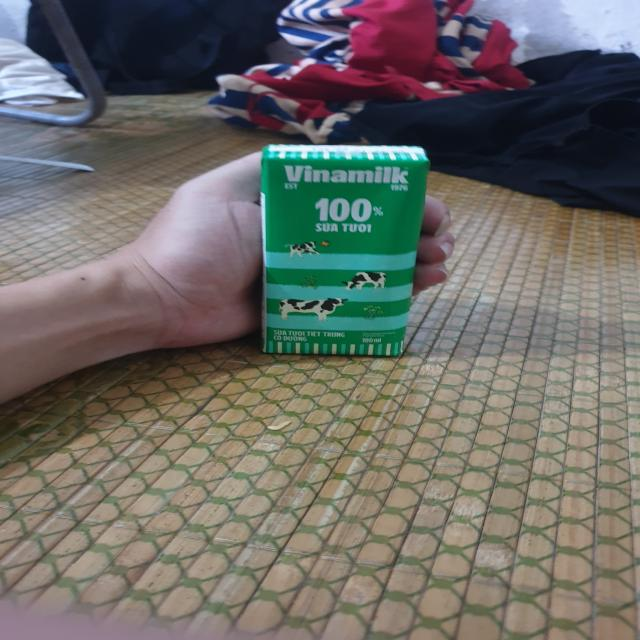Vina: (261, 142, 430, 360)
